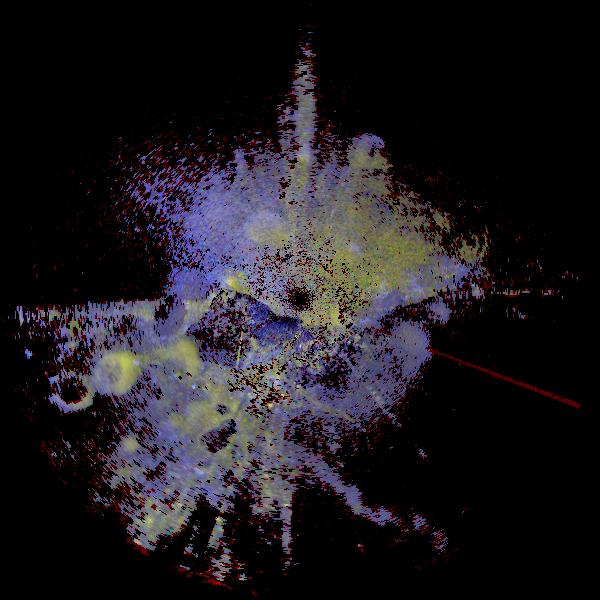roost: (148, 337, 202, 391), (92, 350, 140, 398), (49, 368, 97, 416), (247, 210, 289, 252), (115, 434, 139, 458)
